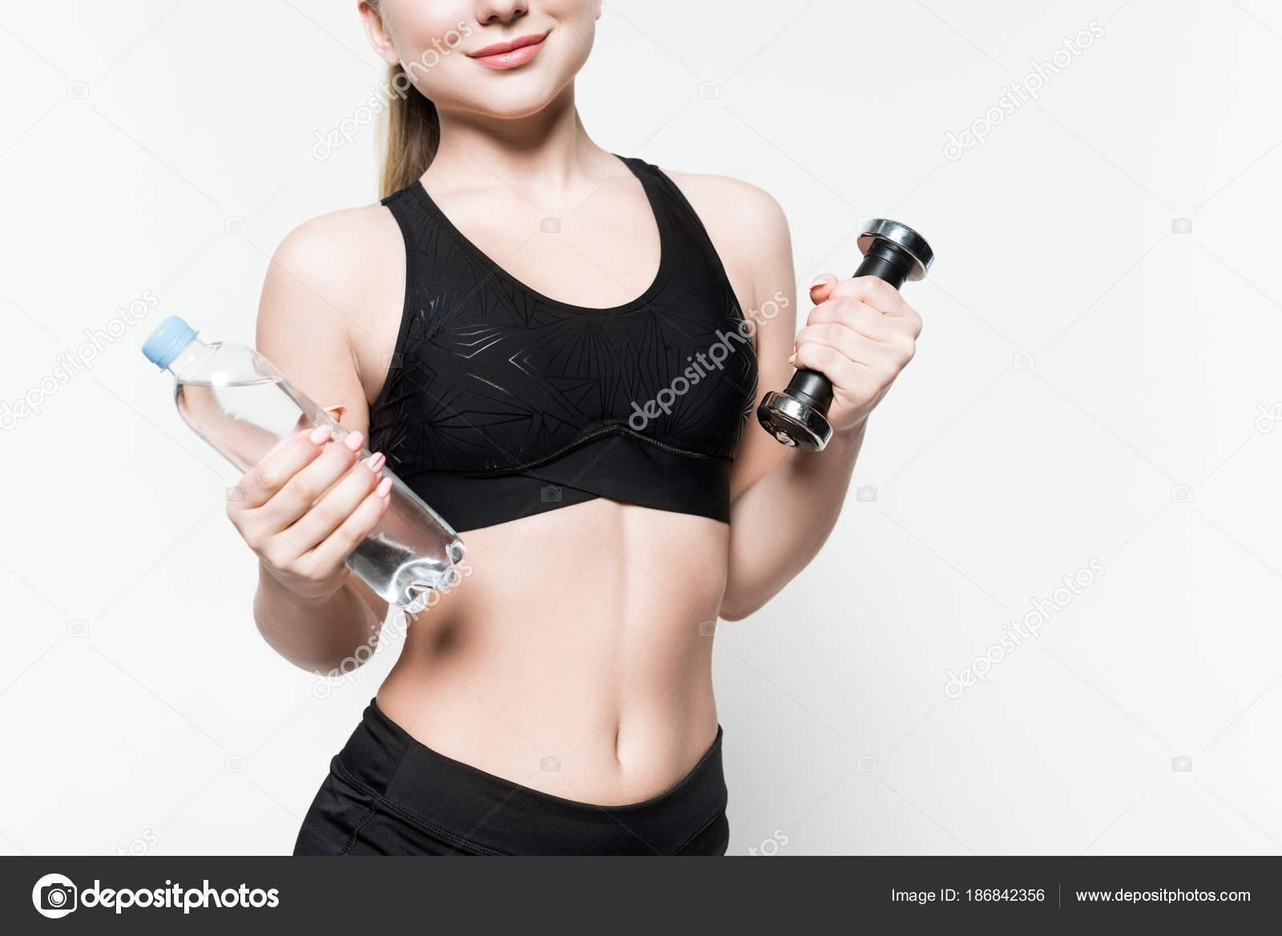bottle-plastic: (139, 307, 475, 625)
